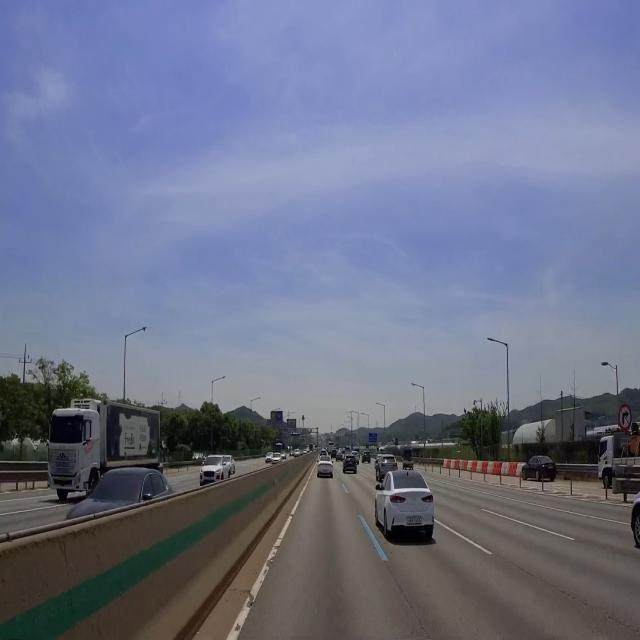car: (401, 511, 429, 535)
